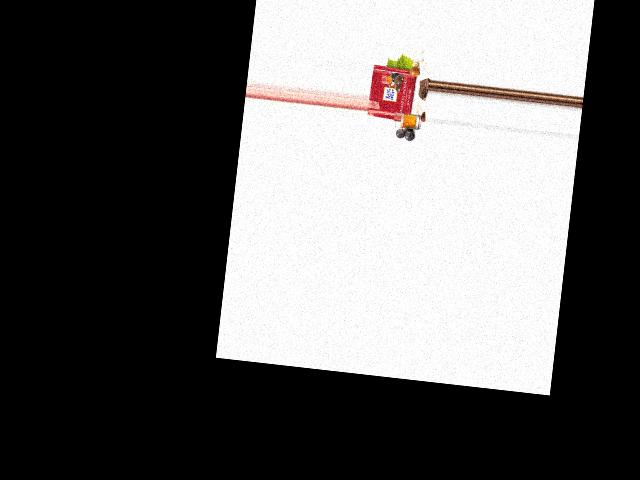chocolate: (368, 63, 417, 120)
